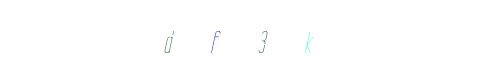3: (210, 0, 290, 80)
D: (167, 0, 247, 80)
F: (183, 0, 263, 80)
K: (268, 0, 348, 80)
